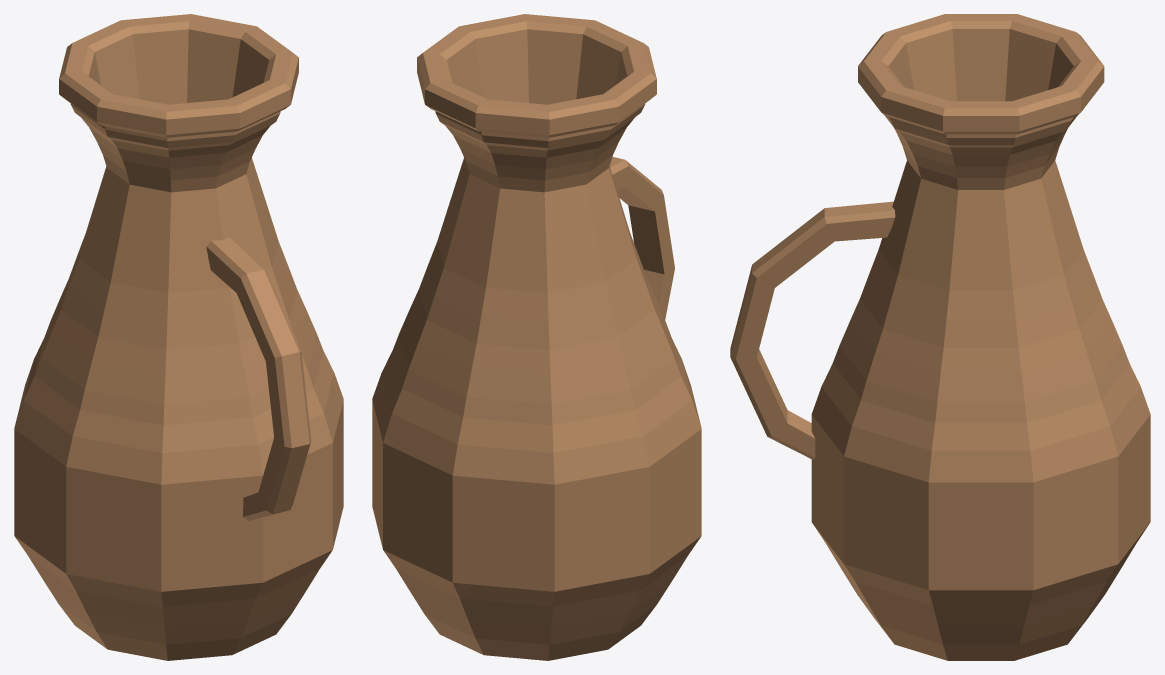
The model's file is Jug.fbx.
The picture shows the model from 3 angles, left to right: view 1: azimuth 30°, elevation 25°; view 2: azimuth 150°, elevation 25°; view 3: azimuth 270°, elevation 25°; orthographic projection.
Parts seen in each view (by area): view 1: Cylinder; view 2: Cylinder; view 3: Cylinder.
Part boxes in pixels (x1,y1,x2,y2): Cylinder: (14,14,343,660); Cylinder: (372,14,701,660); Cylinder: (730,14,1150,660).
Bounding box in the file's own units: 209 × 403 × 272.
